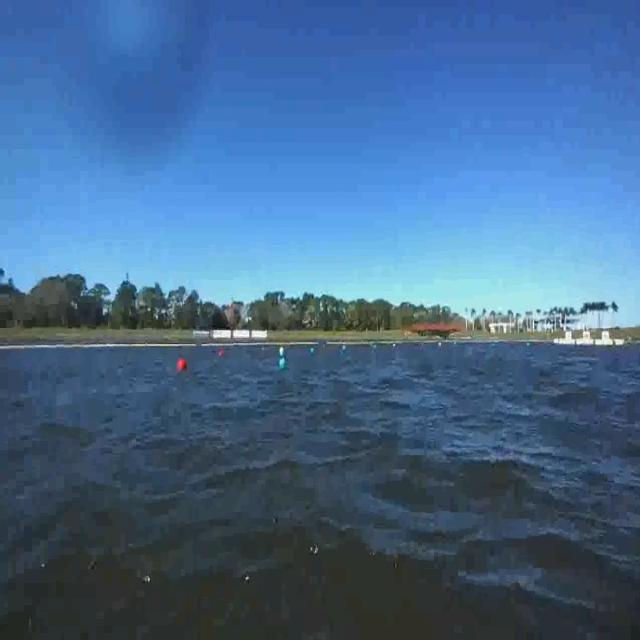green-buoy: (278, 353, 286, 370), (277, 342, 285, 354)
red-buoy: (180, 358, 190, 371)
